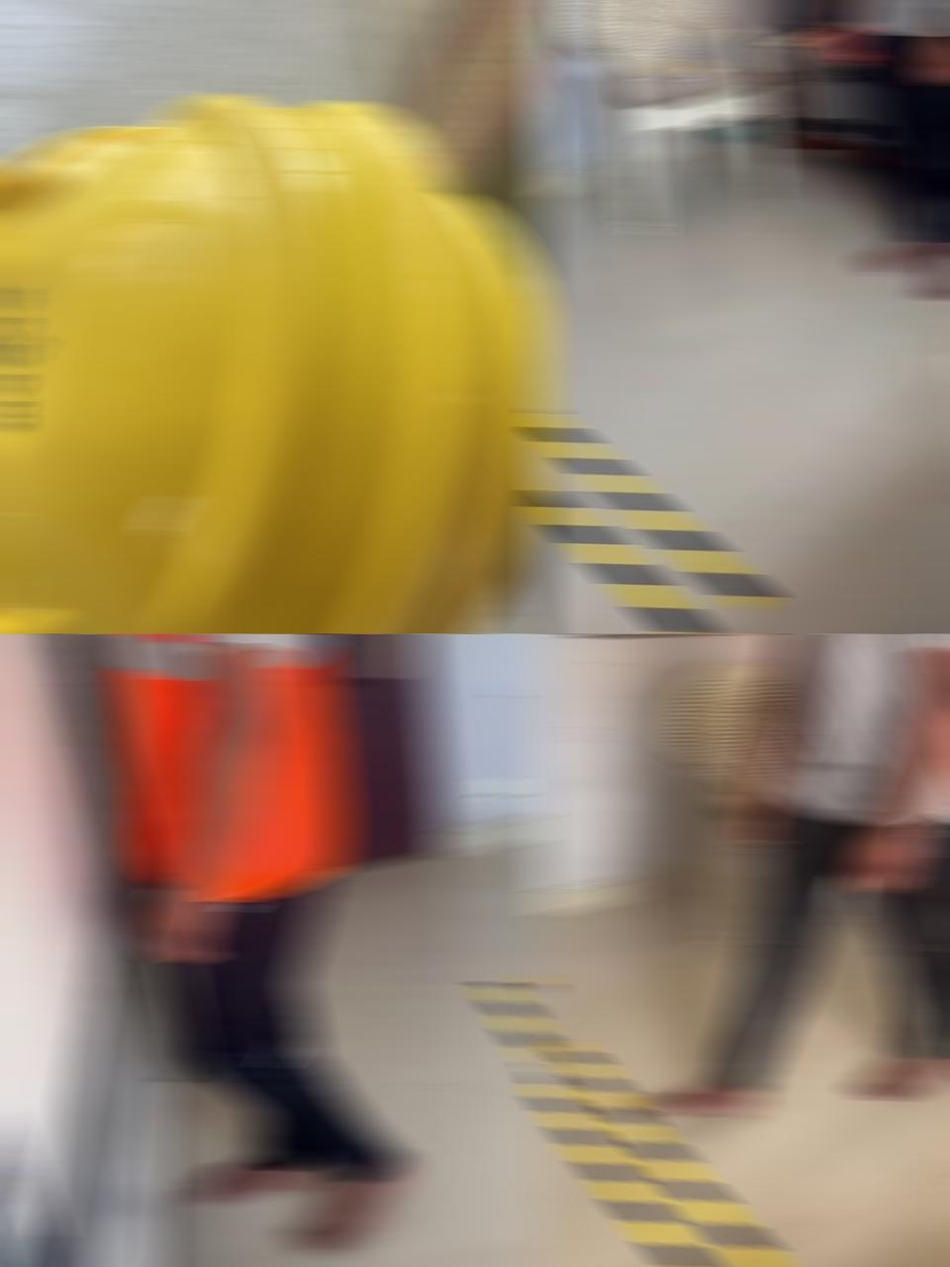BorderLine: (532, 1039, 822, 1267), (532, 402, 775, 634), (475, 972, 550, 1118)
Helmet: (0, 90, 550, 634)
No_Vest: (766, 634, 950, 827)
Person: (96, 633, 412, 1254), (649, 634, 950, 1119), (821, 0, 950, 303)
Vest: (113, 634, 349, 902)
